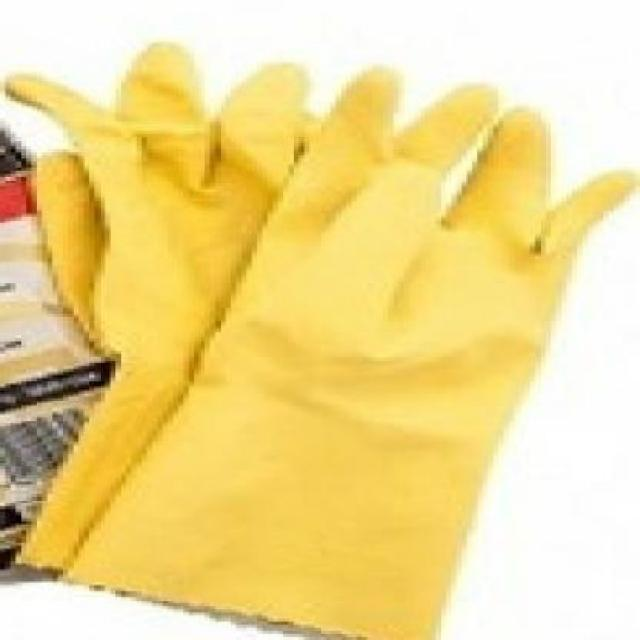glove: (1, 40, 638, 639)
